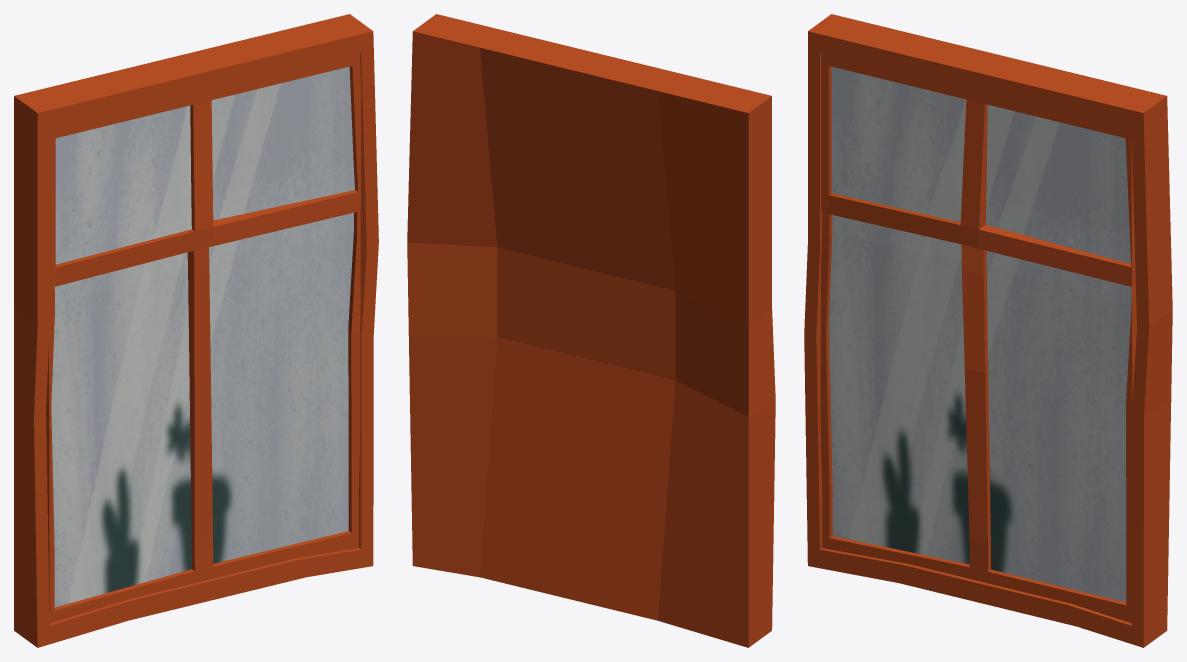
Rendered from Window24.fbx.
The picture shows the model from 3 angles, left to right: view 1: azimuth 30°, elevation 25°; view 2: azimuth 150°, elevation 25°; view 3: azimuth 330°, elevation 25°; orthographic projection.
Visible parts, largest first — view 1: Cube.085; view 2: Cube.085; view 3: Cube.085.
Part boxes in pixels (bbox=[...]): Cube.085: bbox=[14, 14, 378, 647]; Cube.085: bbox=[407, 14, 775, 647]; Cube.085: bbox=[804, 14, 1172, 647].
Bounding box in the file's own units: 128 × 190 × 16.67.
